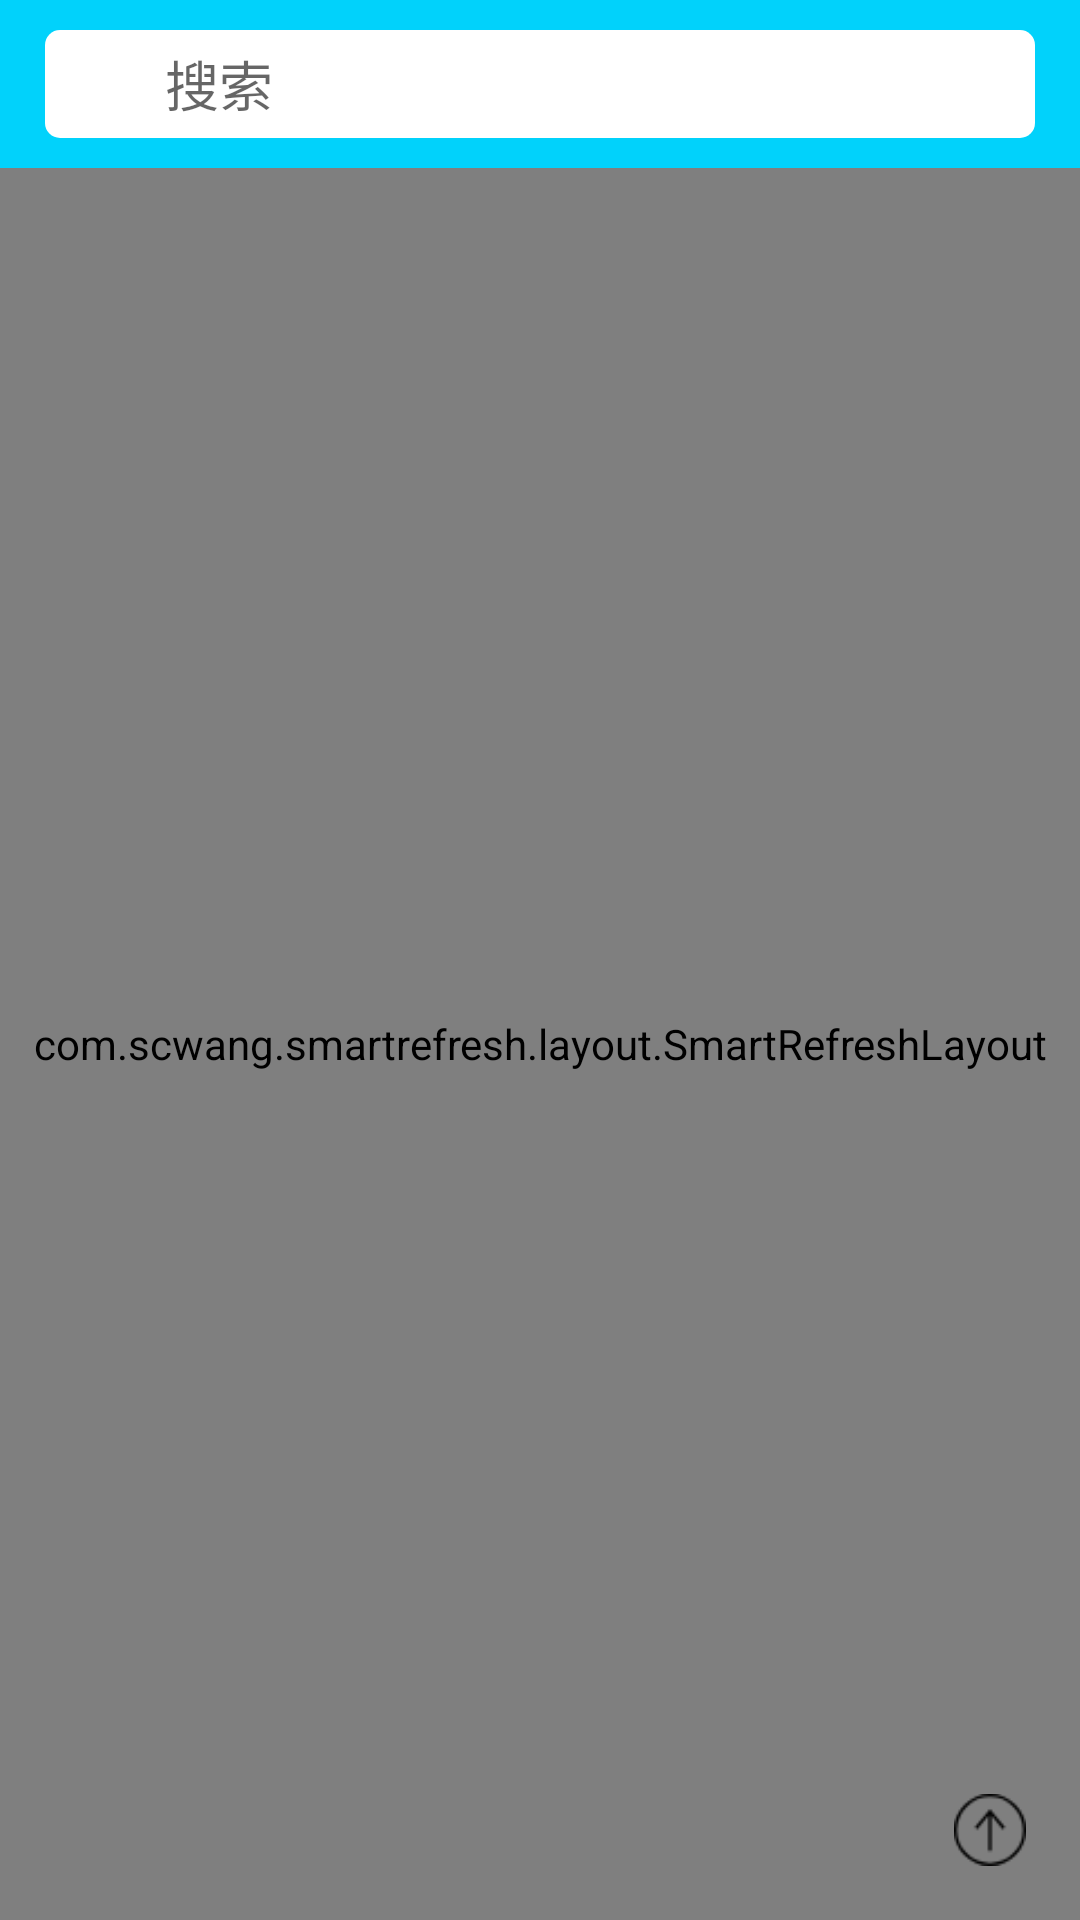

Screen size 1080 × 1920. Icon name, then its center in pixels as point (x, y):
float back: point (990, 1830)
